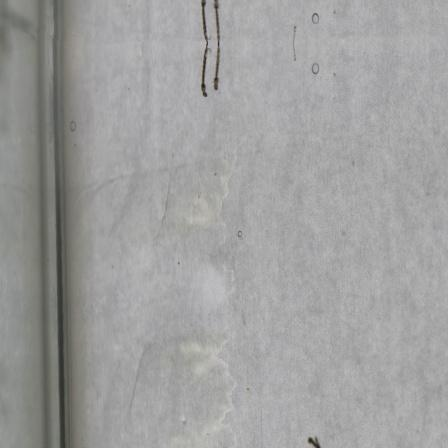Jentik-Nyamuk: (197, 43, 225, 101)
